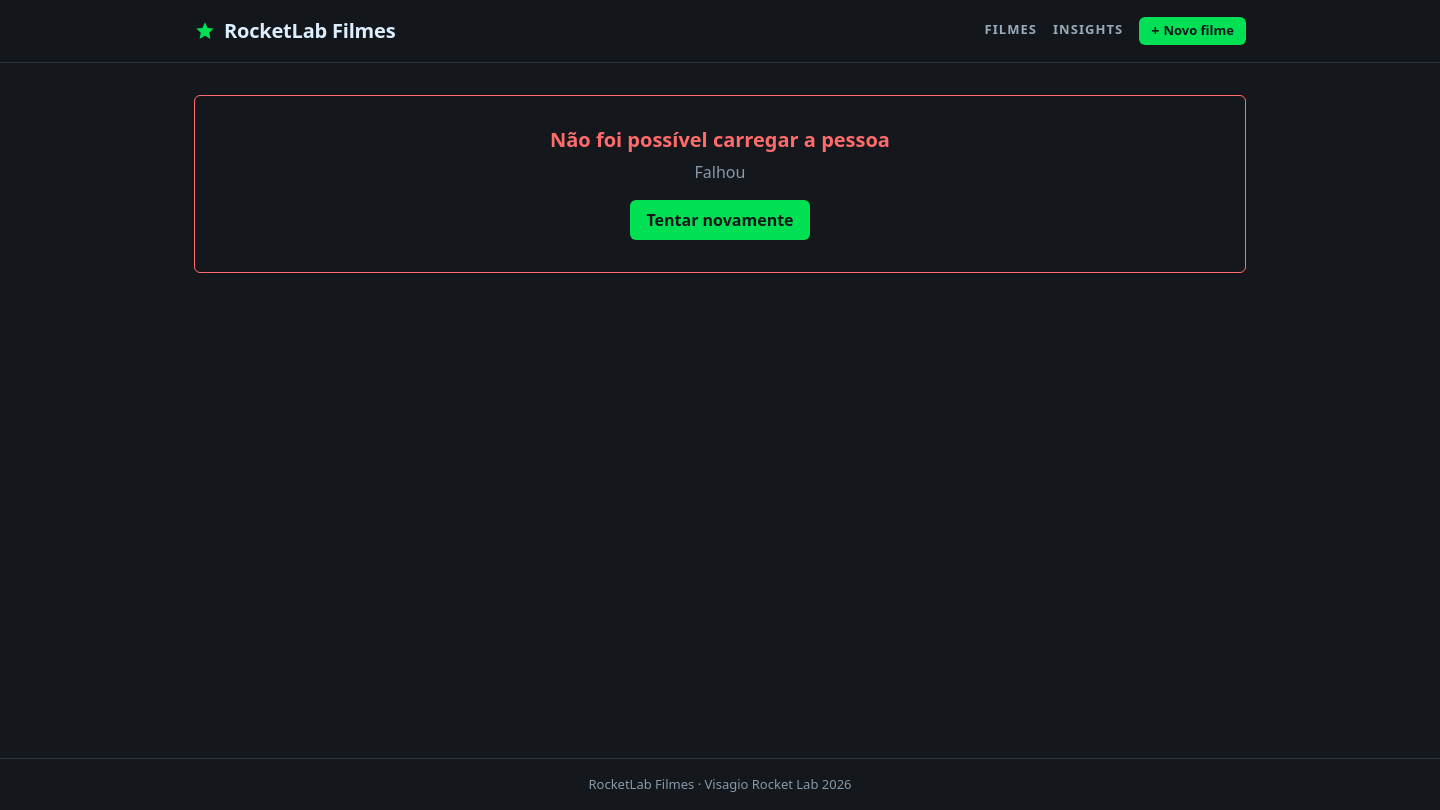
PersonPage — carregamento e erros › mostra o erro e tenta de novo
Expected: the message shows "Não foi possível carregar a pessoa", [550, 126, 890, 153]
Expected: the message shows "Falhou", [695, 161, 746, 183]
Click the button "Tentar novamente" at (720, 220), box [630, 200, 810, 240]
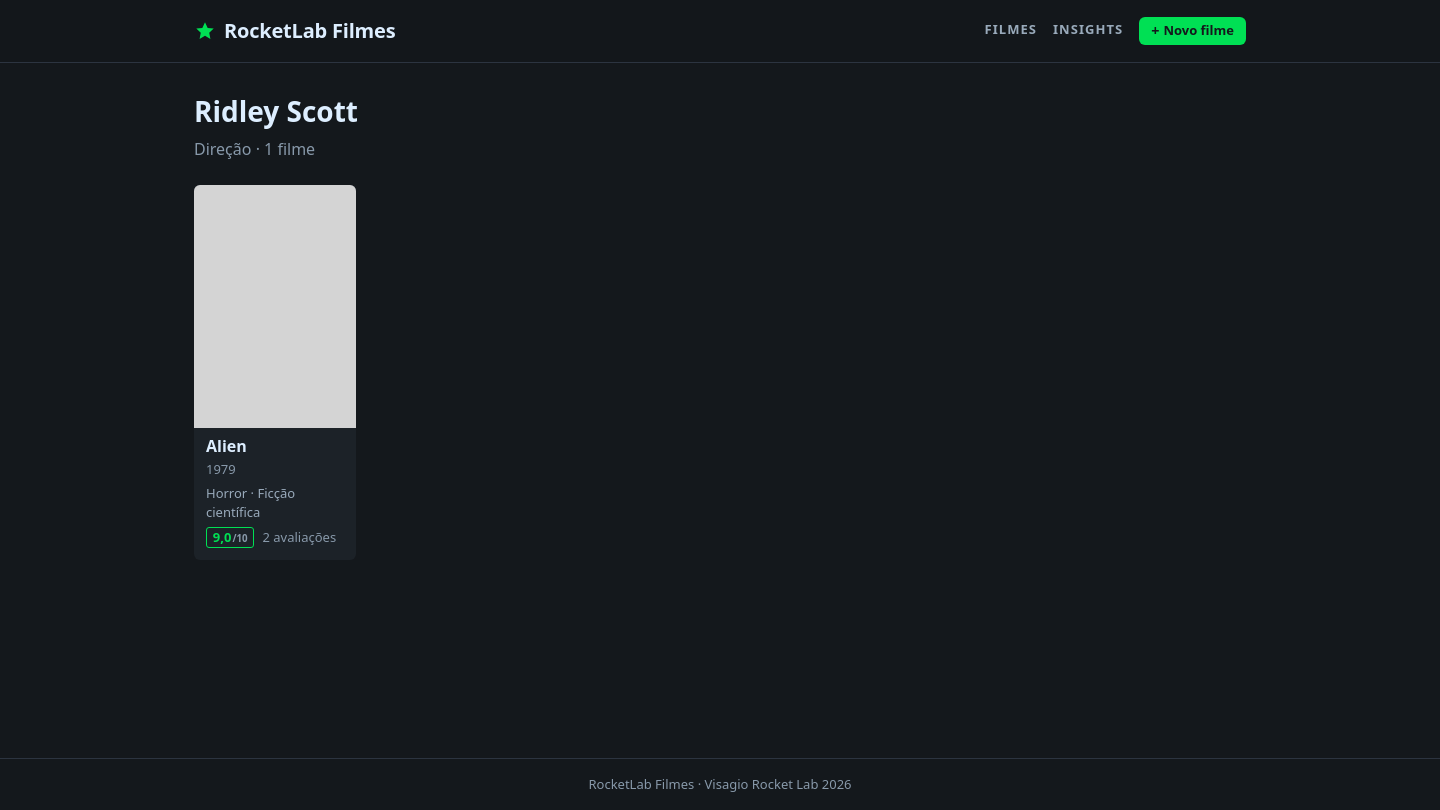
Expected: the heading "Ridley Scott" is shown, [194, 92, 358, 130]
